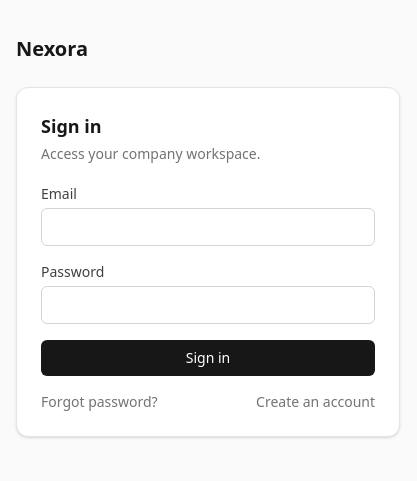
Test: surfaces an invalid-credentials error
The width and height of the screenshot is (417, 481).
Type "a@example.com" into the field labelled "Email".
click(208, 227); type("a@example.com")  # box [41,208,375,246]
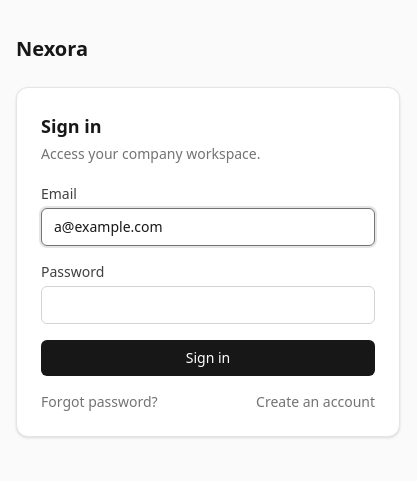
Type "wrong" into the password field labelled "Password".
click(208, 305); type("wrong")  # box [41,286,375,324]
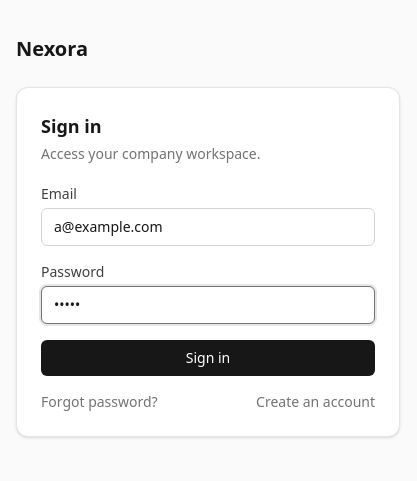
Click the button "Sign in".
click(208, 358)  # box [41,340,375,376]
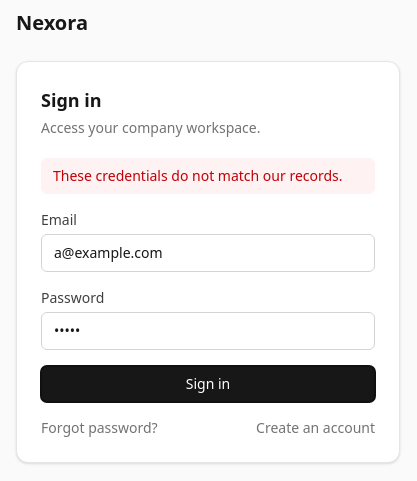
Expected: the message reads "These credentials do not match our records.", [53,166,343,185]
